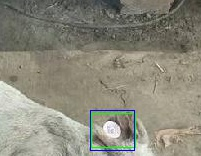text: (91, 113, 135, 147)
